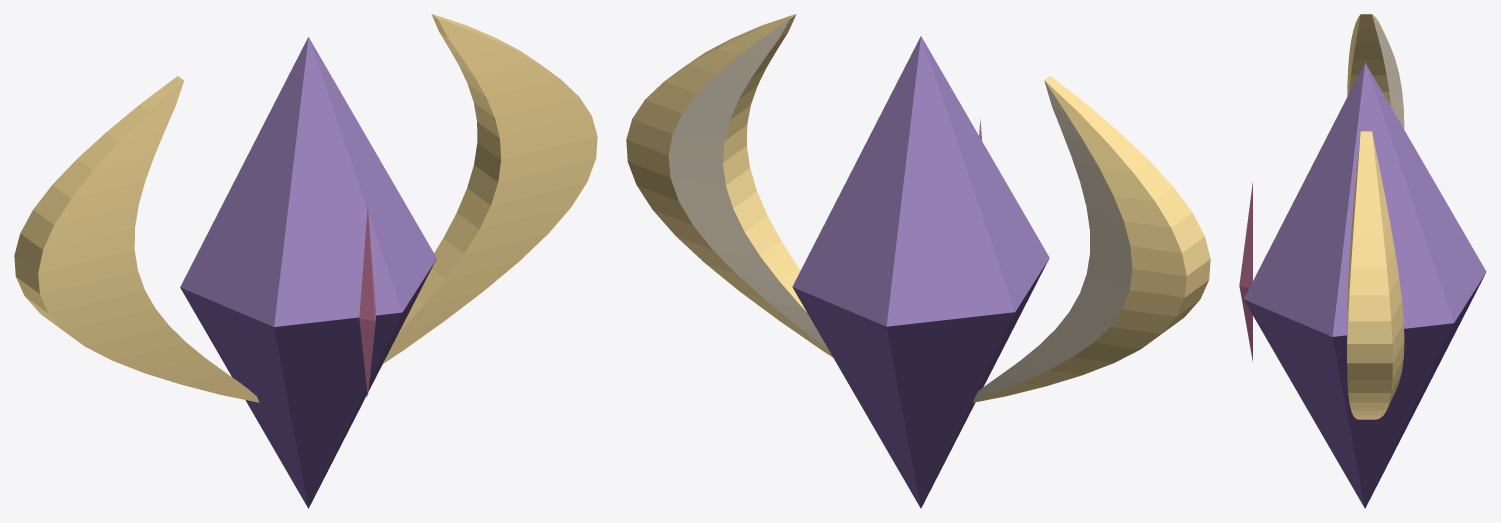
Rendered from jester.glb.
3 renders of one model, left to right at view 1: azimuth 30°, elevation 25°; view 2: azimuth 150°, elevation 25°; view 3: azimuth 270°, elevation 25°, orthographic. The views are drawn at different scales.
Parts seen in each view (by area): view 1: Diamond body, Fin.R, Fin.L, Eye; view 2: Diamond body, Fin.L, Fin.R; view 3: Diamond body, Fin.R, Fin.L, Eye.
Part boxes in pixels (x1=…): Diamond body: x1=180, y1=37, x2=436, y2=508; Fin.R: x1=383, y1=14, x2=597, y2=363; Fin.L: x1=14, y1=76, x2=259, y2=402; Eye: x1=359, y1=205, x2=375, y2=397; Diamond body: x1=792, y1=36, x2=1049, y2=508; Fin.L: x1=972, y1=76, x2=1210, y2=402; Fin.R: x1=626, y1=14, x2=832, y2=357; Diamond body: x1=1243, y1=62, x2=1486, y2=508; Fin.R: x1=1347, y1=131, x2=1404, y2=419; Fin.L: x1=1347, y1=14, x2=1404, y2=129; Eye: x1=1239, y1=182, x2=1252, y2=361.
Bounding box in the file's own units: 3.59 × 2.9 × 1.45.
